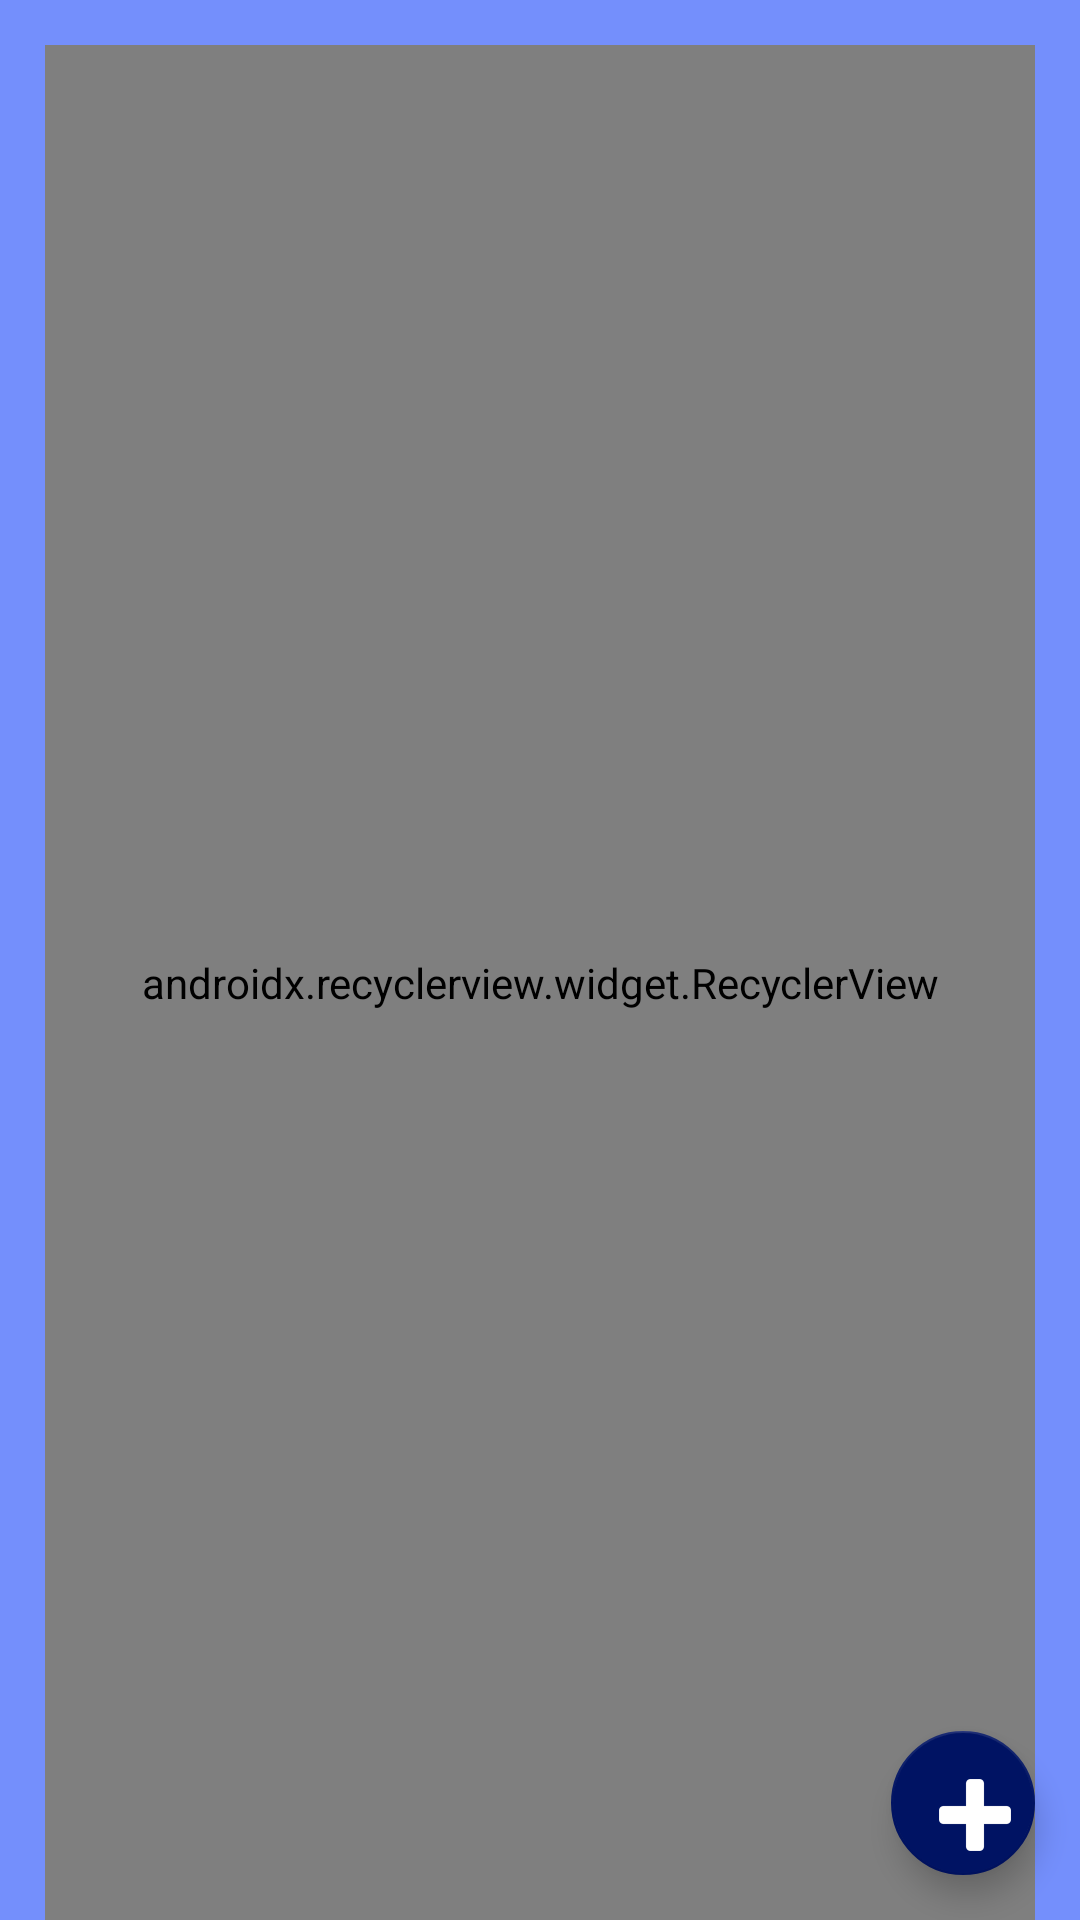

Where to tap for icons on this 1080px×1920px app screen, as (x,y):
add: (963,1803)
